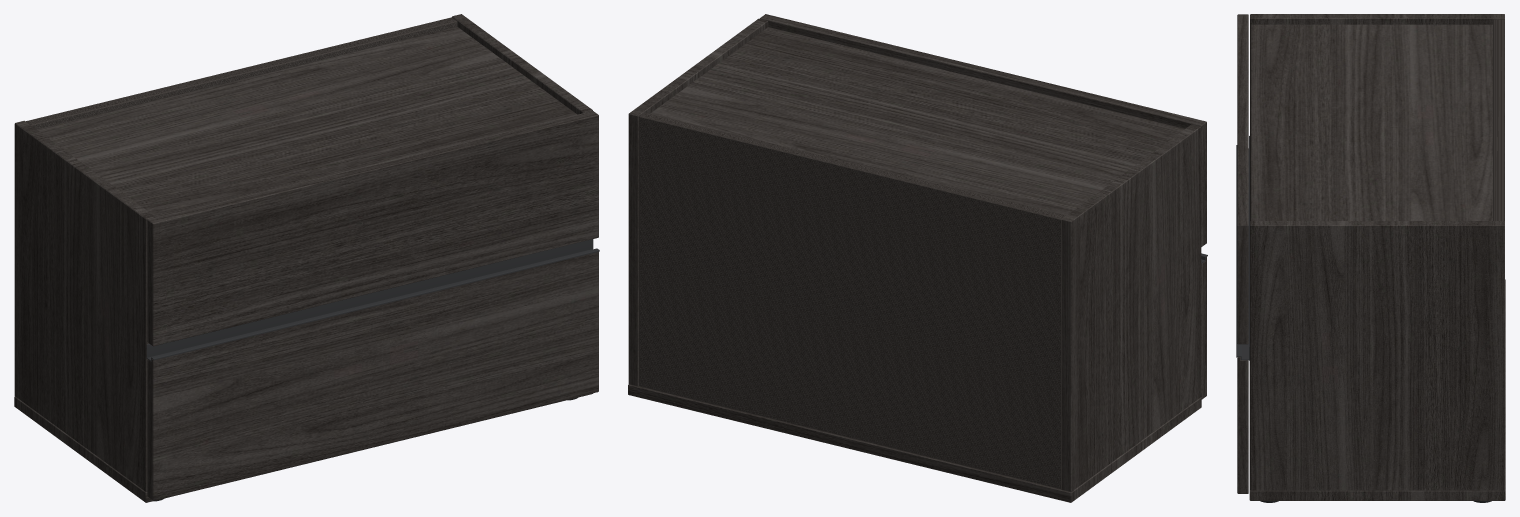
Rendered from ADIB02360.glb.
The picture shows the model from 3 angles, left to right: view 1: azimuth 30°, elevation 25°; view 2: azimuth 150°, elevation 25°; view 3: azimuth 270°, elevation 25°; orthographic projection. The views are drawn at different scales.
Parts seen in each view (by area): view 1: BP_ADIB02360; view 2: BP_ADIB02360; view 3: BP_ADIB02360.
Part boxes in pixels (x1,y1,x2,y2): BP_ADIB02360: [14, 14, 599, 502]; BP_ADIB02360: [628, 14, 1207, 502]; BP_ADIB02360: [1236, 14, 1505, 502].
Bounding box in the file's own units: 0.795 × 0.49 × 0.4268.
3 materials, 1 textured.
